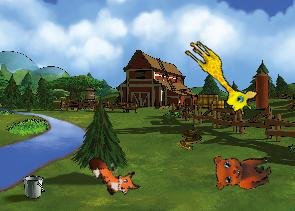bear: (208, 142, 275, 197)
fox: (85, 143, 143, 205)
giraffe: (175, 36, 262, 119)
